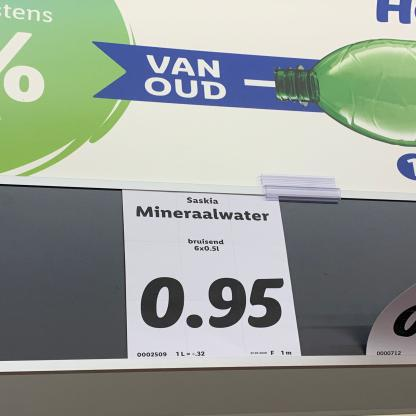prtg: (122, 191, 303, 360)
